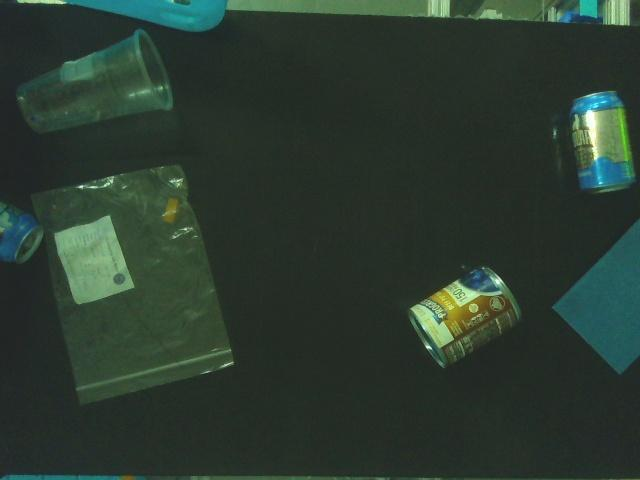cardboard: (548, 216, 640, 386)
metal: (402, 263, 523, 373), (563, 79, 640, 200), (0, 201, 43, 271)
plastic: (32, 156, 238, 413), (0, 27, 182, 135), (159, 195, 182, 225)
